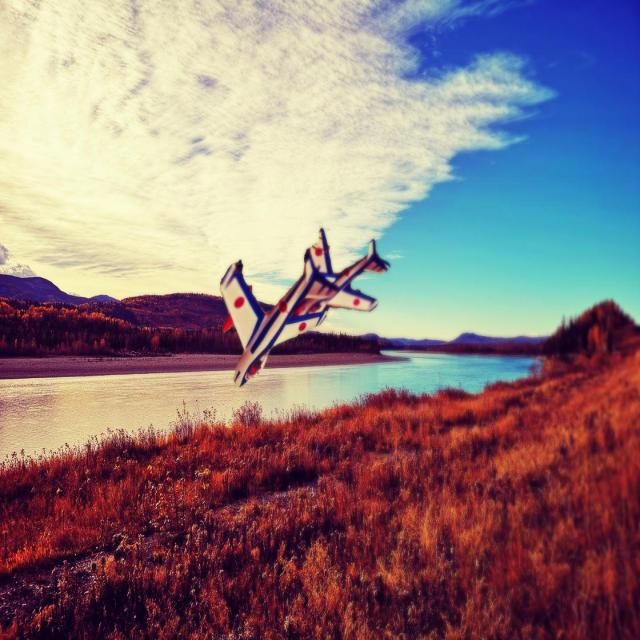airplane: (219, 226, 390, 388)
